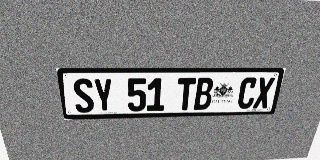1: (147, 78, 165, 111)
5: (127, 78, 146, 112)
B: (194, 78, 214, 110)
C: (236, 77, 258, 109)
S: (72, 78, 95, 113)
T: (176, 78, 196, 110)
X: (252, 77, 275, 108)
Y: (92, 78, 114, 112)
